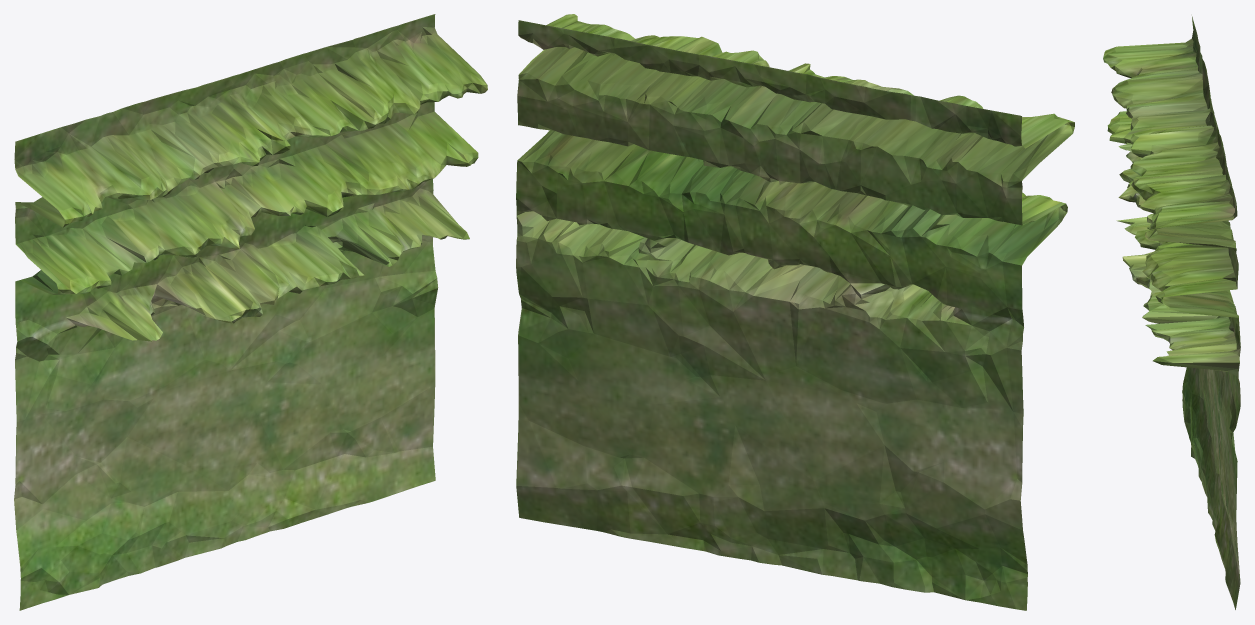
File: map_10_30.obj
3 views of the same model, side by side, from view 1: azimuth 30°, elevation 25°; view 2: azimuth 150°, elevation 25°; view 3: azimuth 270°, elevation 25° (orthographic). The views are drawn at different scales.
Visible parts, largest first — view 1: grp1; view 2: grp1; view 3: grp1.
Part boxes in pixels (left/top/right/bottom): grp1: left=14, top=14, right=487, bottom=610; grp1: left=516, top=14, right=1074, bottom=610; grp1: left=1103, top=16, right=1240, bottom=609.
Bounding box in the file's own units: 10 × 10 × 3.07.
1 material, 1 textured.
